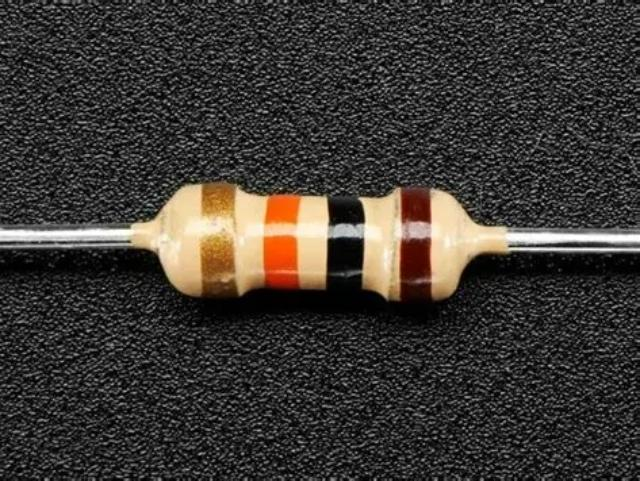black: (325, 196, 366, 293)
brown: (401, 187, 432, 303)
gold: (202, 183, 241, 300)
orange: (263, 196, 304, 289)
resistor: (132, 179, 513, 305)
